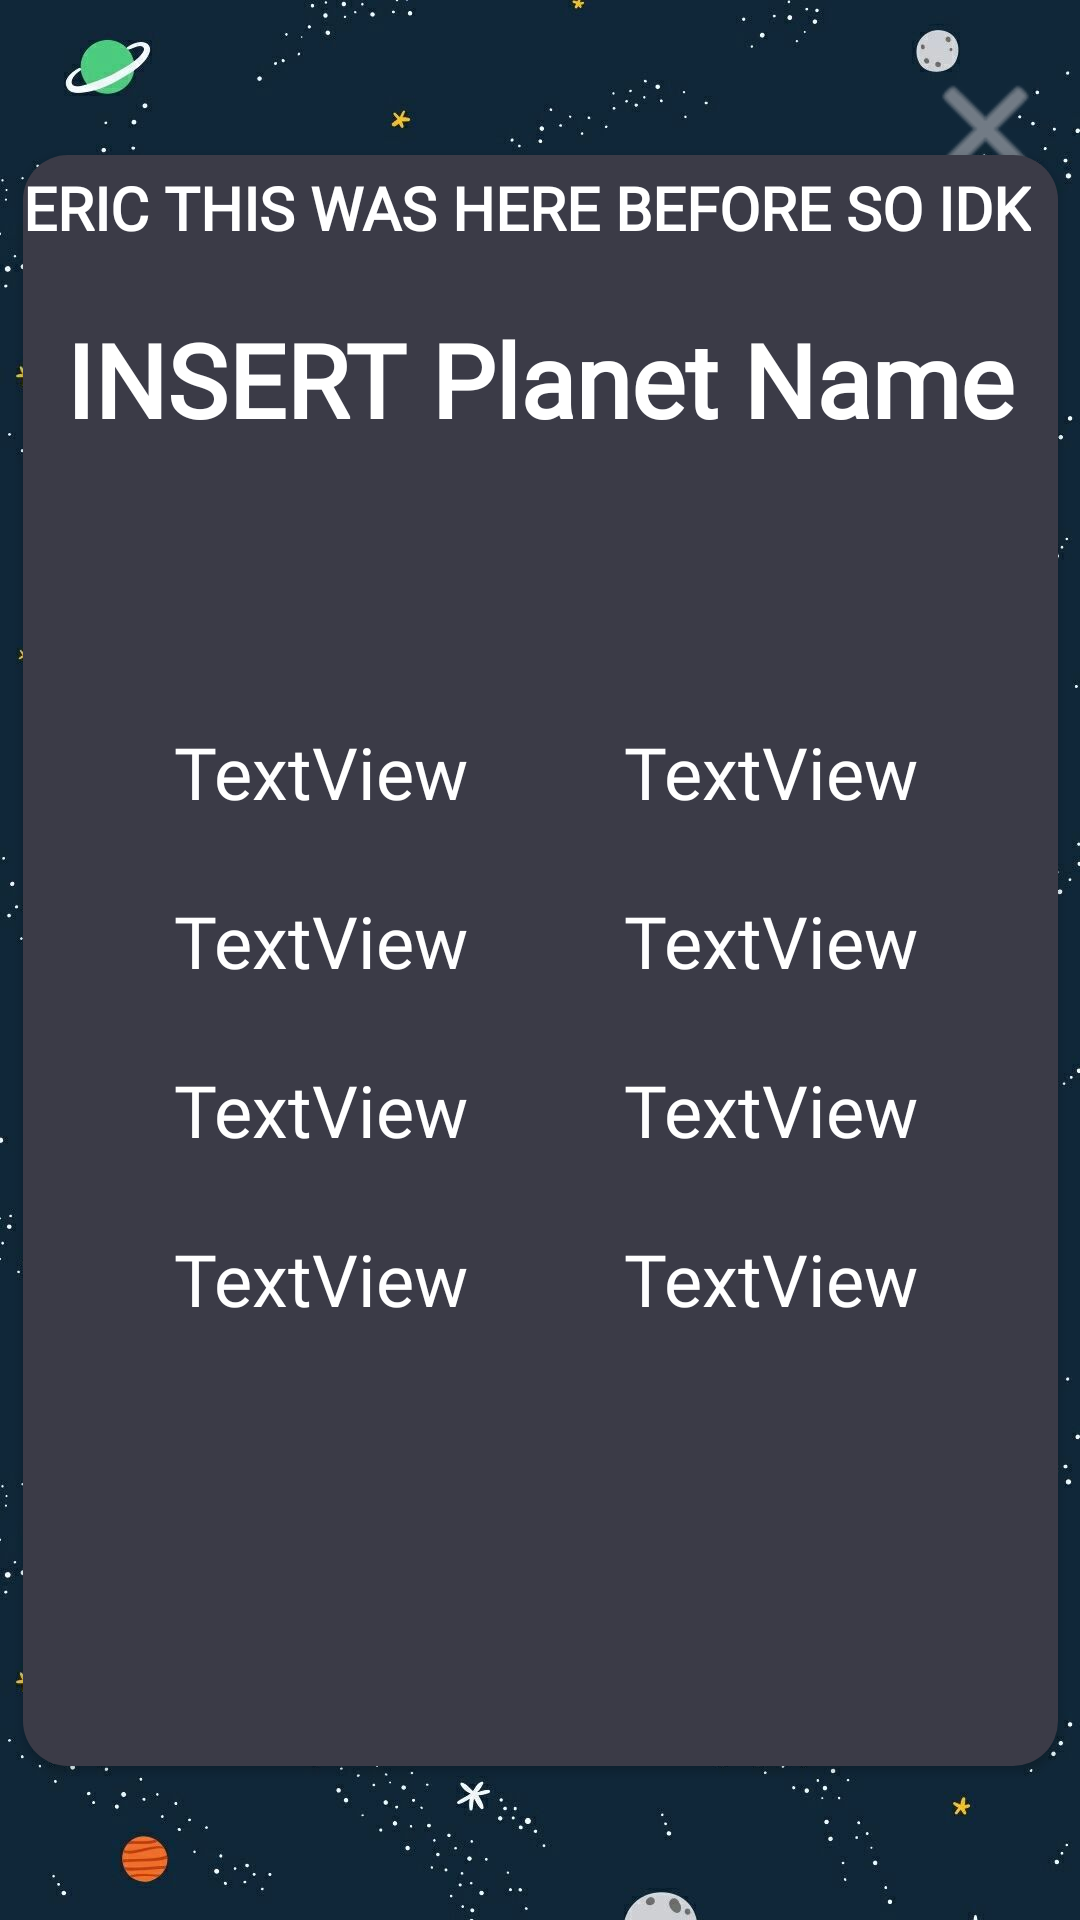

Point at icon controls on the screen. Image size 1080px×1920px, points as point (x, y).
close clear cancel: point (985, 129)
